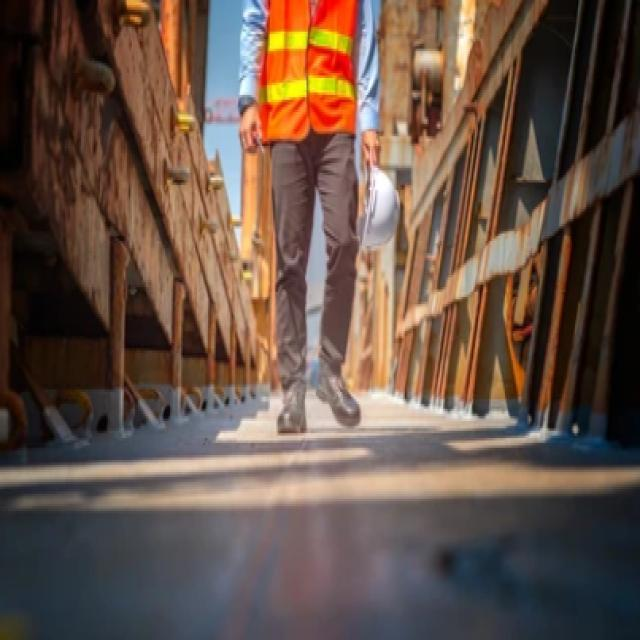shoes: (270, 355, 360, 440)
vest: (258, 0, 364, 151)
